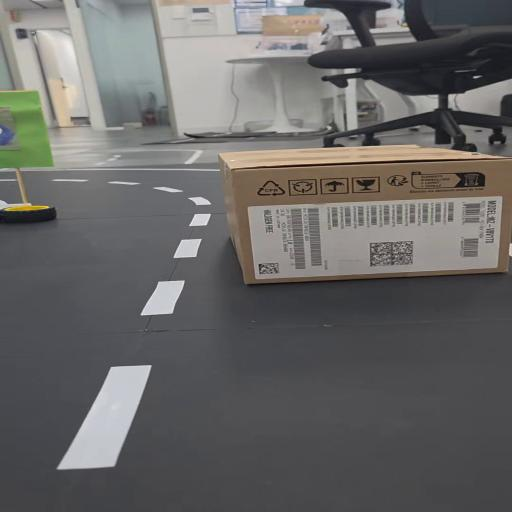Box: (215, 144, 512, 286)
